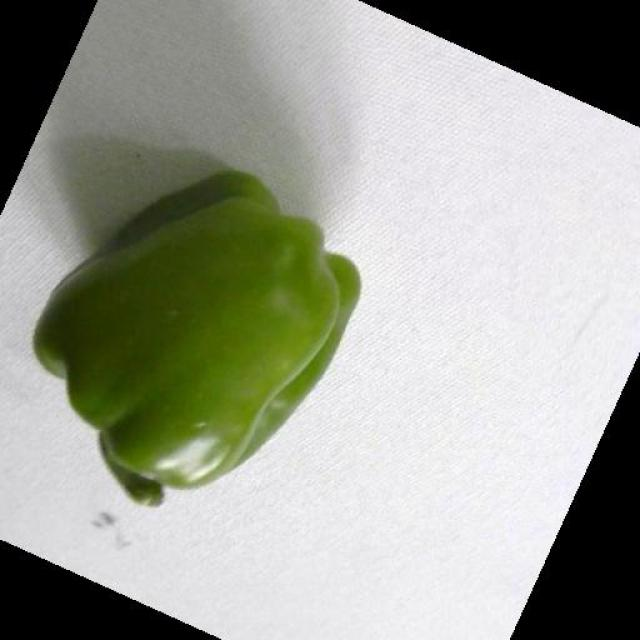Fresh_Capsicum: (42, 174, 377, 524)
